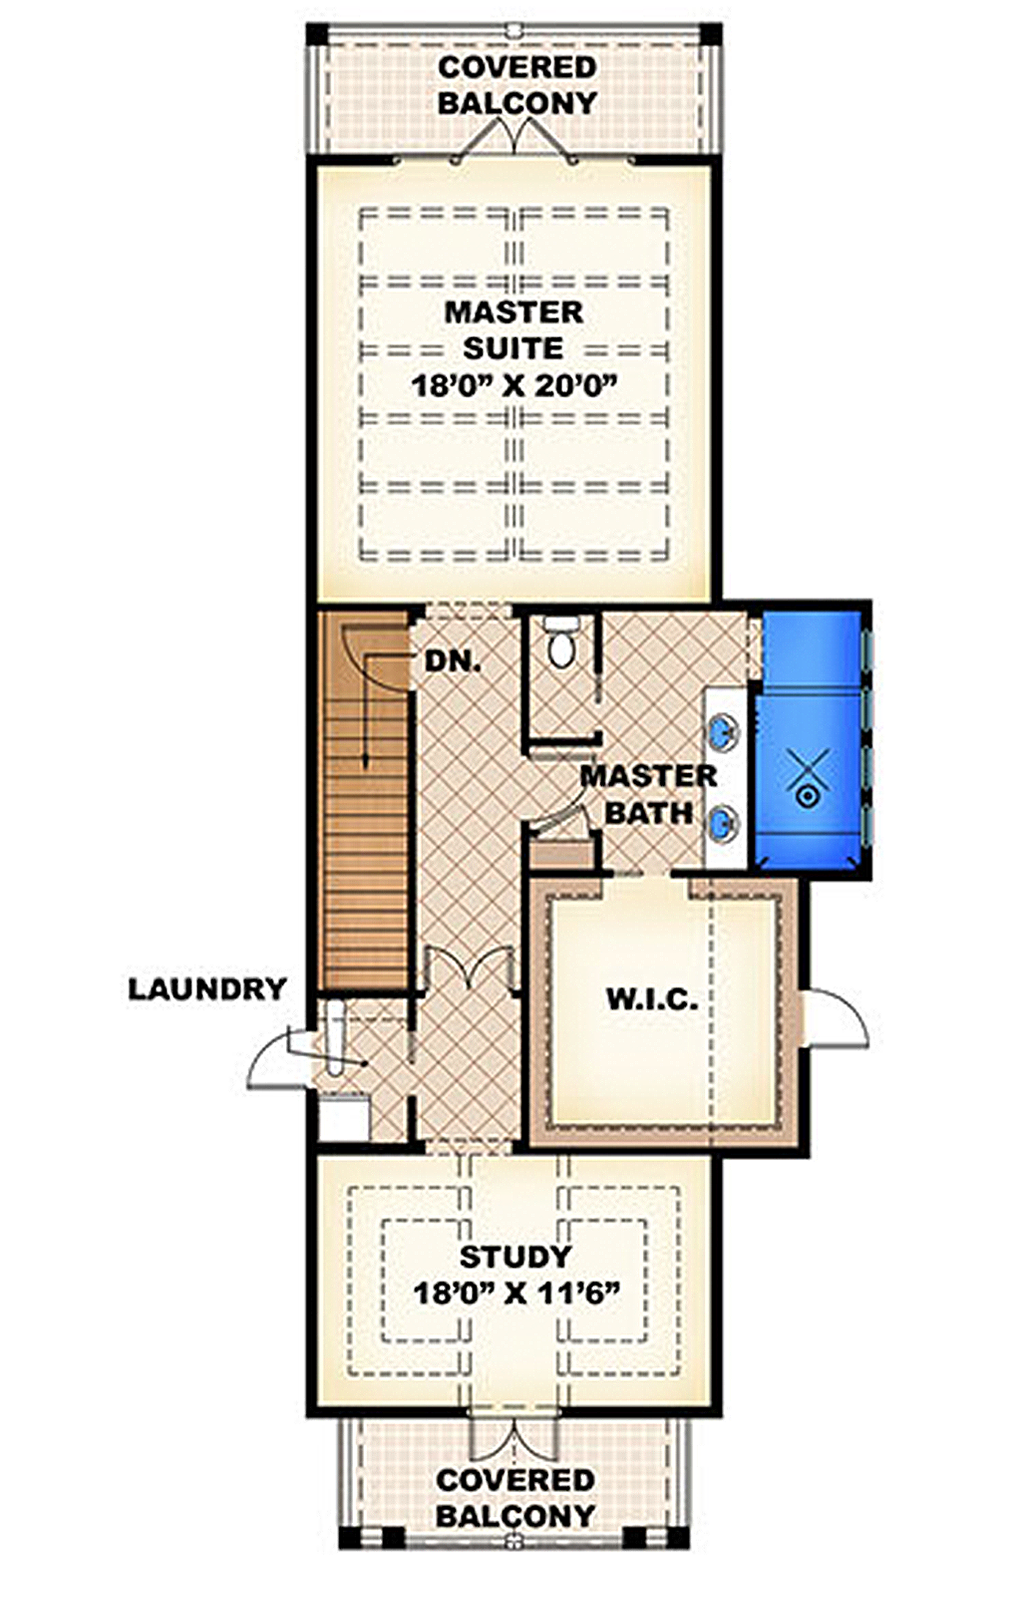door: (413, 938, 521, 1011), (231, 1018, 311, 1094), (462, 1413, 562, 1467), (448, 118, 572, 160), (796, 987, 870, 1053)
large_sink: (540, 602, 589, 685)
small_sink: (699, 691, 760, 876)
stairs: (314, 613, 422, 994)
